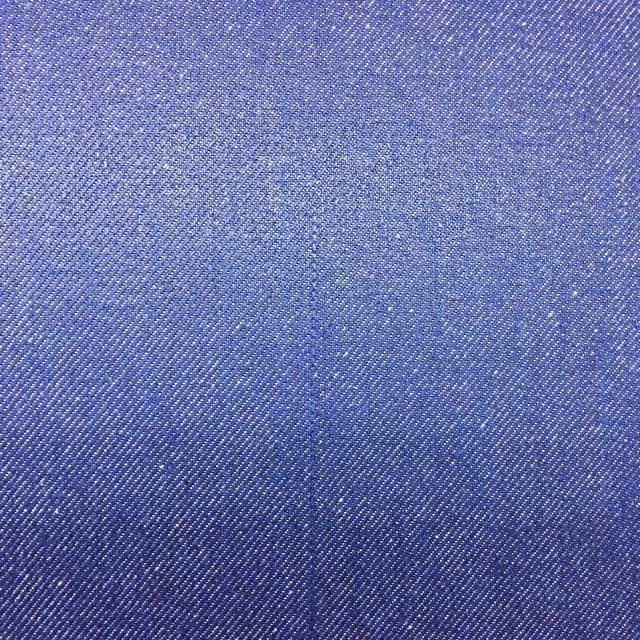Line: (305, 209, 321, 640)
